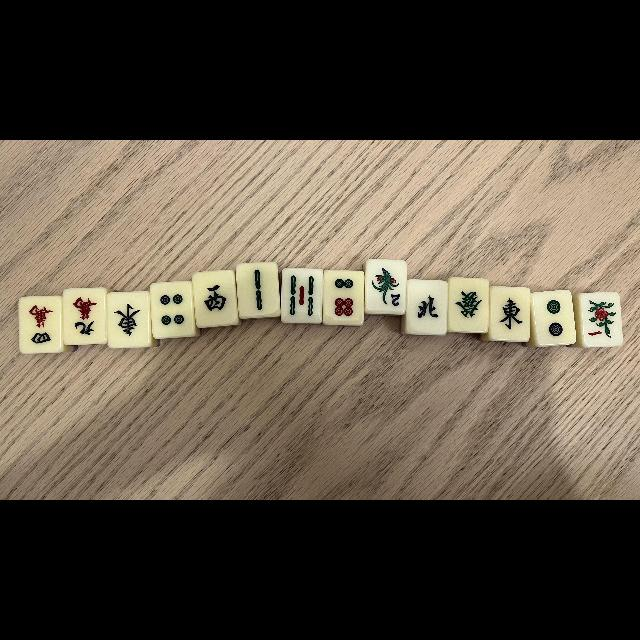b2: (238, 264, 278, 318)
b5: (282, 270, 321, 322)
c4: (20, 296, 62, 352)
c9: (64, 290, 106, 342)
d2: (536, 292, 572, 342)
d4: (152, 283, 192, 335)
d6: (324, 272, 362, 324)
dg: (449, 278, 487, 332)
f2-s: (366, 260, 406, 314)
s1-s: (582, 293, 622, 345)
we: (108, 293, 150, 347), (490, 288, 528, 338)
wn: (408, 280, 446, 334)
ww: (194, 273, 236, 325)
